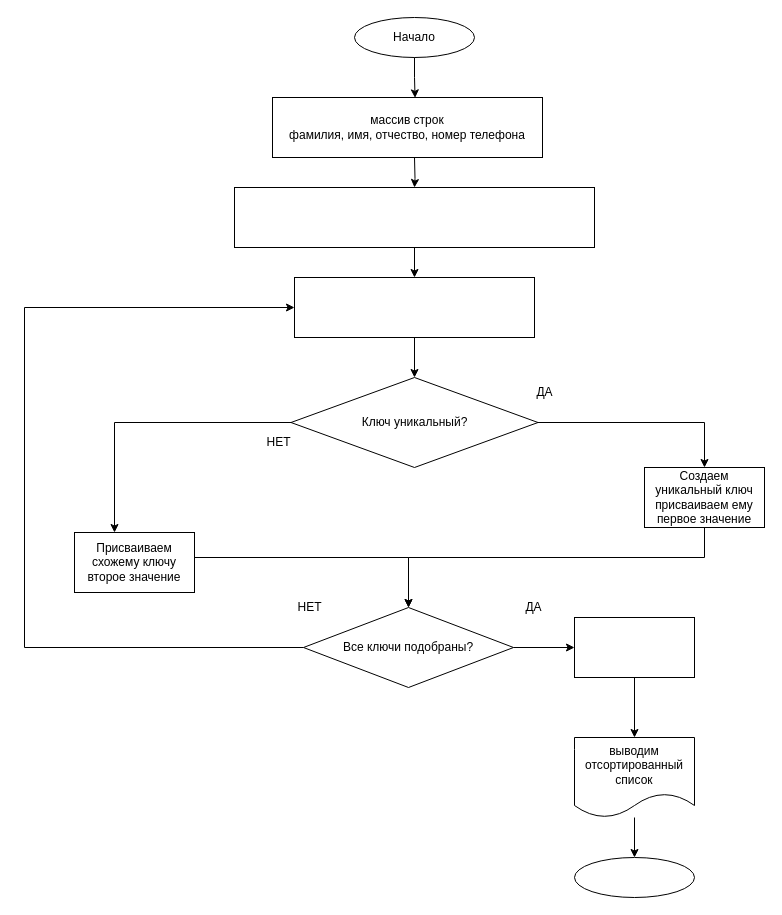
The diagram is 782 pixels wide and 915 high, and some of its shapes have lost their labels. Here are the shapes that lost their labels. From the top down, the centre of each, then its label:
At pixel 414 217: "берем каждую строку и разбиваем на ключ (ФИО) и значение (телефон)".
At pixel 414 307: "создаем ключ из ФИО".
At pixel 634 647: "Сортируем ключи по значению".
At pixel 634 877: "конец".
